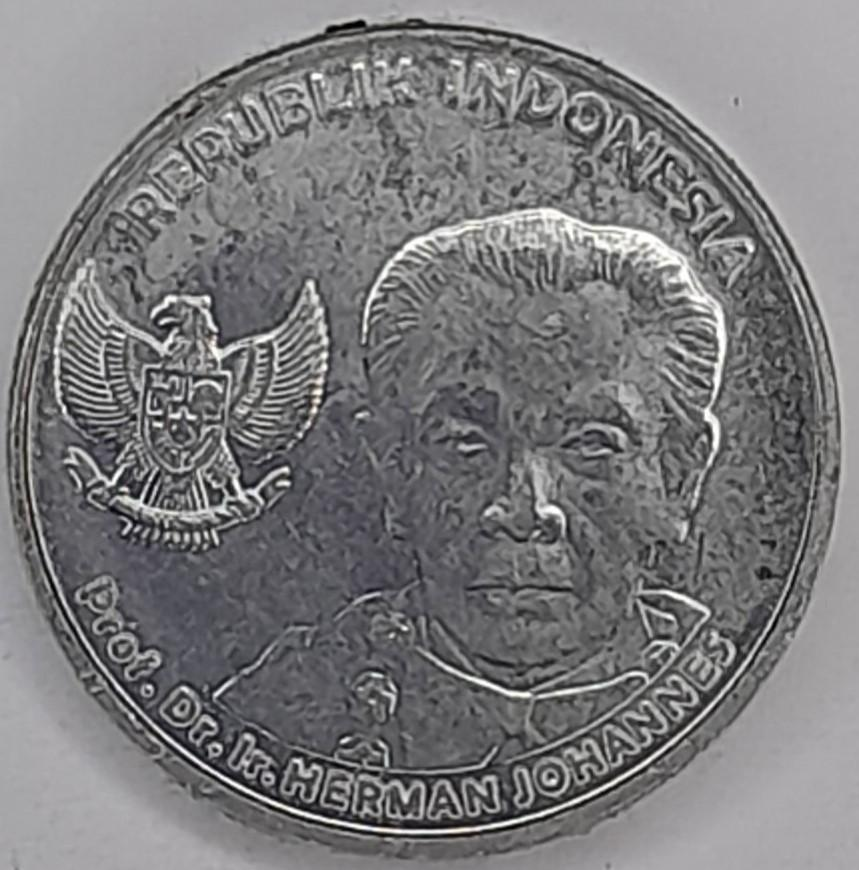coin_100_e2016: (0, 11, 848, 862)
